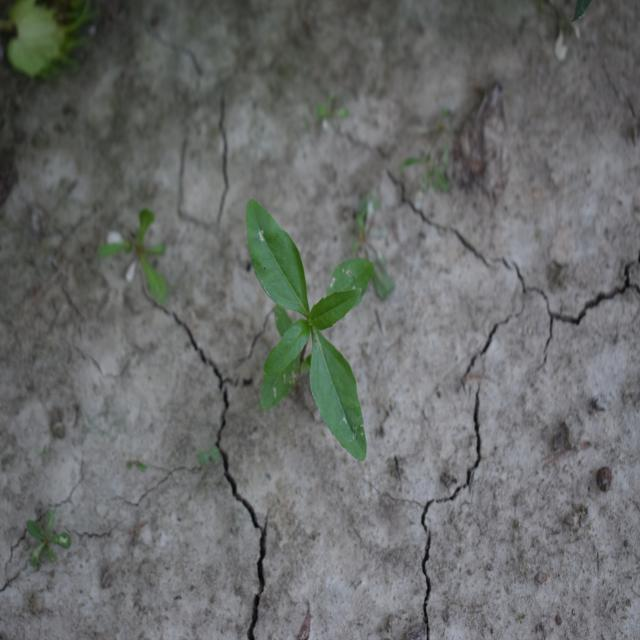Eclipta: (245, 198, 375, 464)
